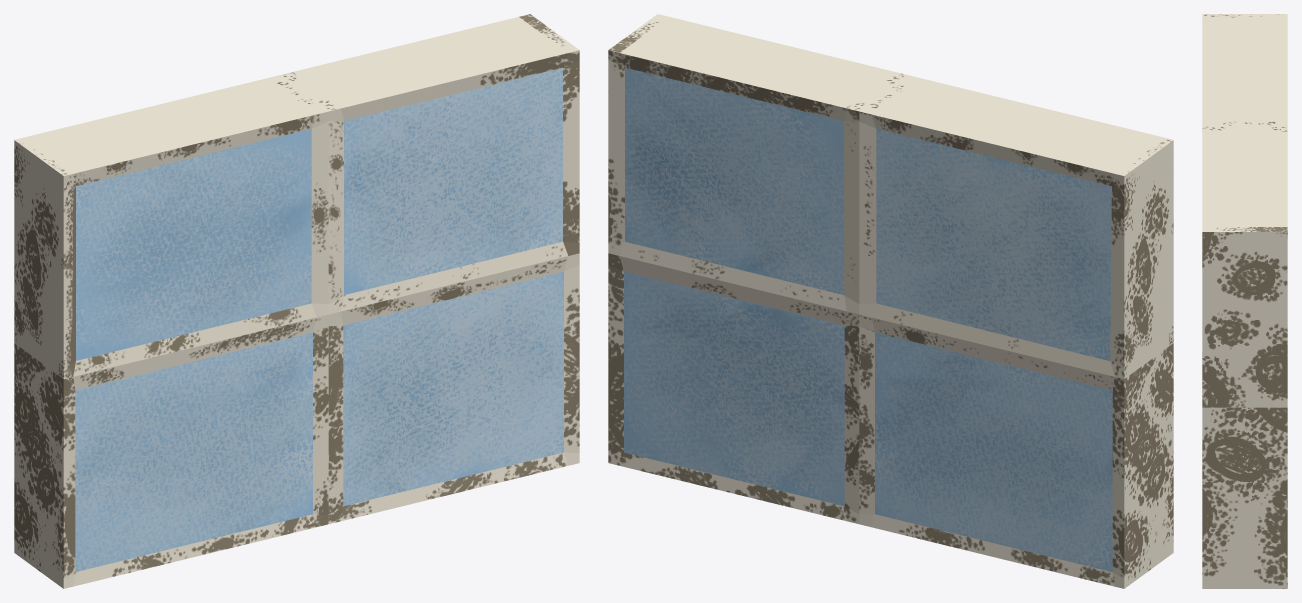
The model's file is Obj_Window.fbx.
3 renders of one model, left to right at view 1: azimuth 30°, elevation 25°; view 2: azimuth 150°, elevation 25°; view 3: azimuth 270°, elevation 25°, orthographic. The views are drawn at different scales.
Parts seen in each view (by area): view 1: Cube; view 2: Cube; view 3: Cube.
Boxes of the visible parts, box(x1,y1,x2,y2) form: Cube: box(14, 14, 579, 588); Cube: box(608, 14, 1173, 588); Cube: box(1202, 14, 1287, 588).
Size of the model in its own units: 612 by 468 by 102.
